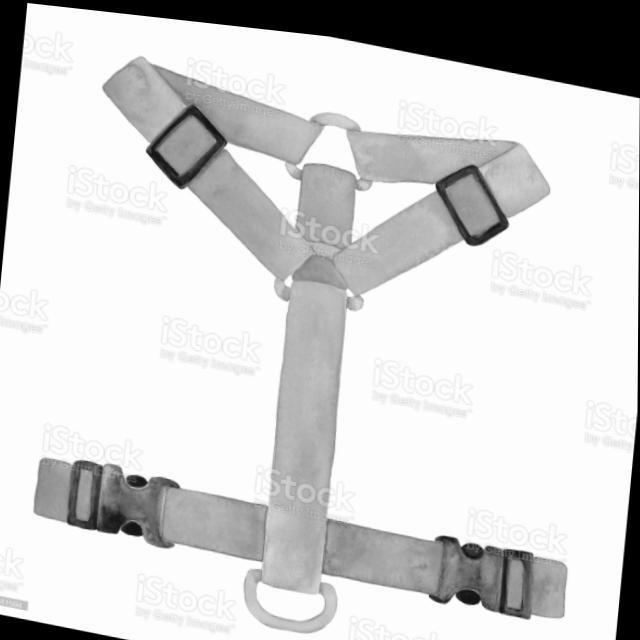safety belt: (57, 60, 581, 639)
